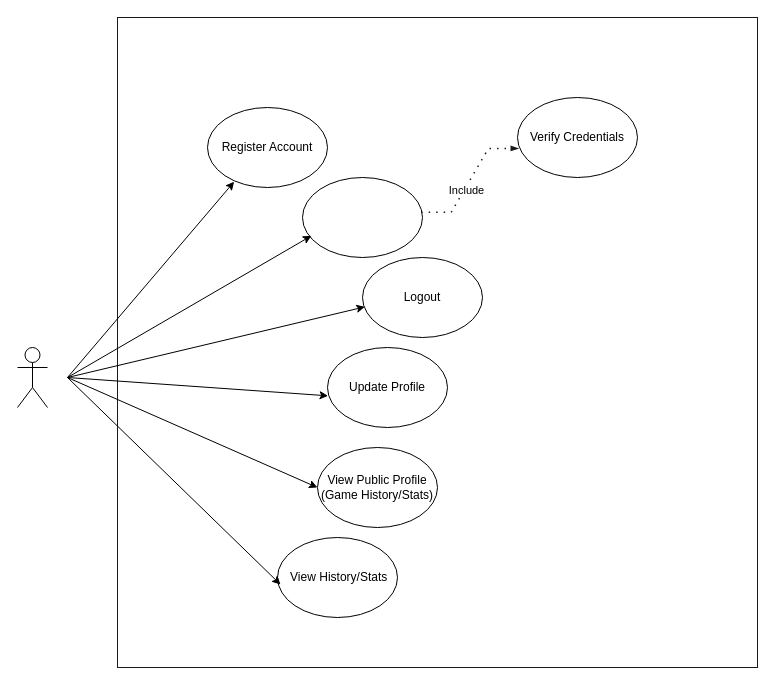
This 775x685 diagram has some shape labels left out. Here are the shapes that lost their labels. From the top down, the centre of each, then its label:
point (362, 217): Login
point (32, 377): User
